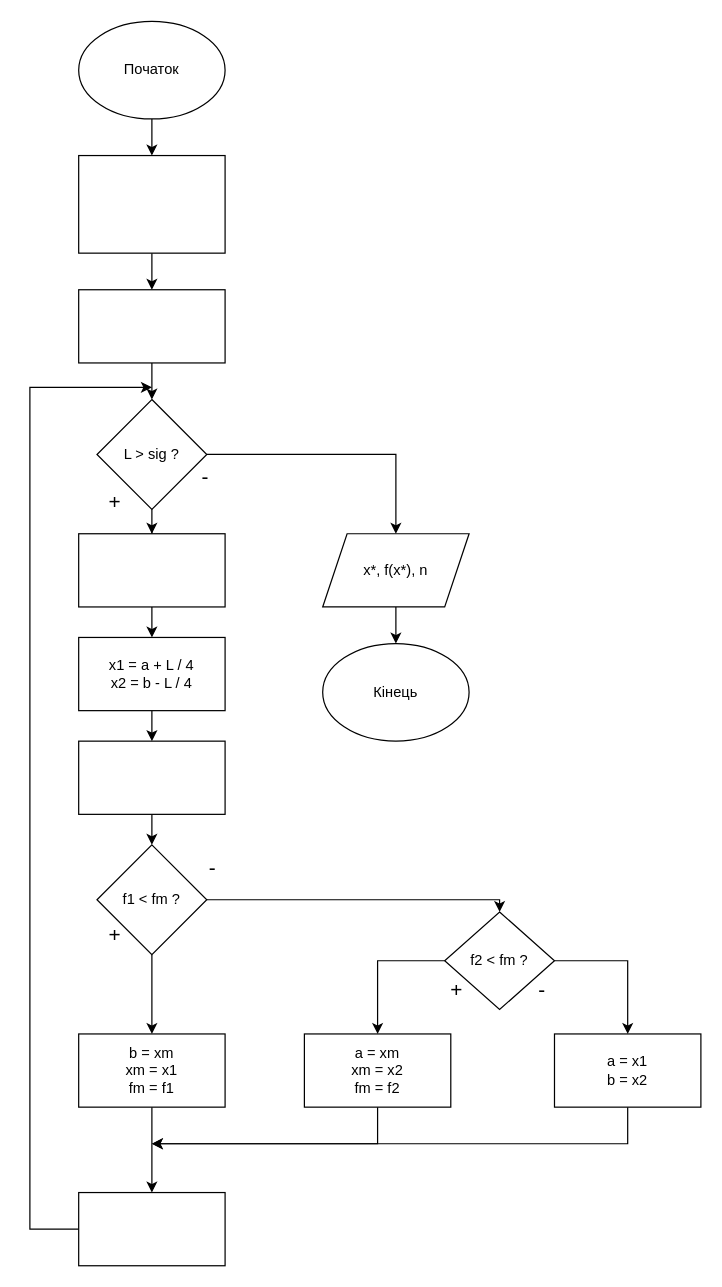
The diagram is 722 pixels wide and 1287 high, and some of its shapes have lost their labels. Each missing label, with the centre of its shape:
a = 0.45 b = 0.75 sig = 0.01 k = 0 n = 1: pixel 151 203
f1 = f(x1) f2 = f(x2) n = n + 2: pixel 151 777
k = k + 1: pixel 151 570
L = b - a: pixel 151 1228
L = b - a xm = (a + b) / 2 fm = f(xm): pixel 151 326
